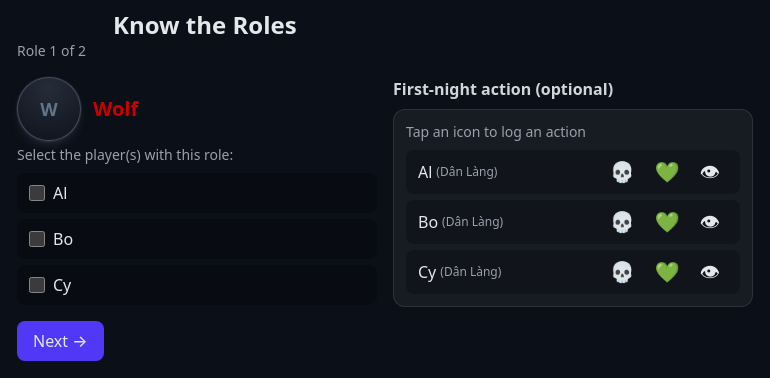
Scenario: Setup › assigns selected players to current role and advances
This screenshot has width=770, height=378.
Expected: the heading "Wolf" is shown, [93, 95, 138, 123]
Click the checkbox labelled "Al" at (37,193), box [29, 185, 45, 201]
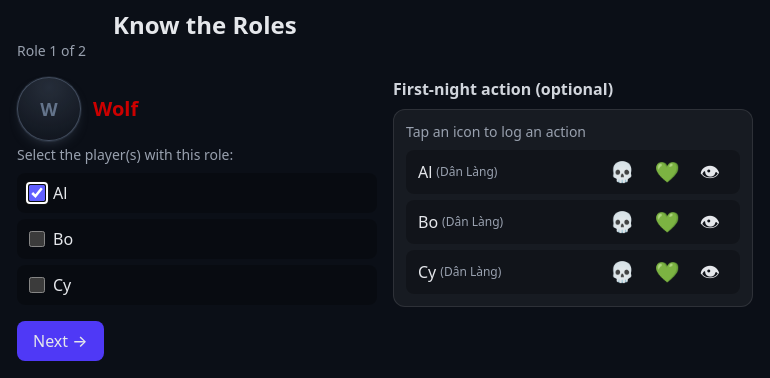
Click the checkbox labelled "Bo" at (37,239), box [29, 231, 45, 247]
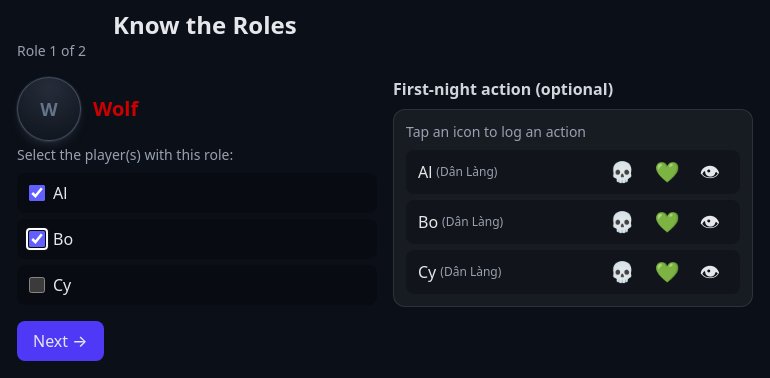
Click the button "Next →" at (60,341), box [17, 321, 104, 361]
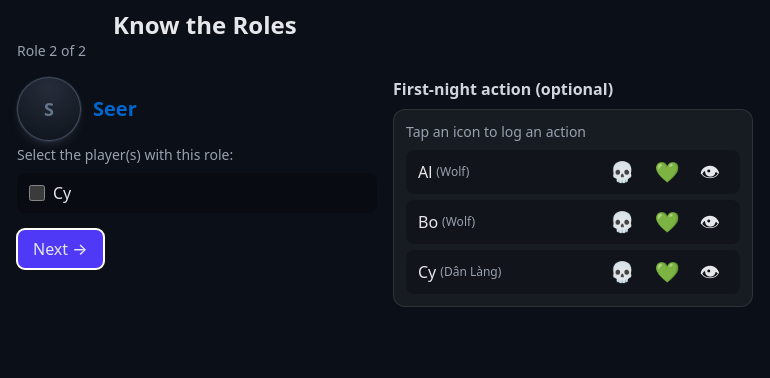
Expected: the checkbox labelled "Cy" is shown, [29, 185, 45, 201]
Now the heading "Seer" is shown, box [93, 95, 137, 123]
